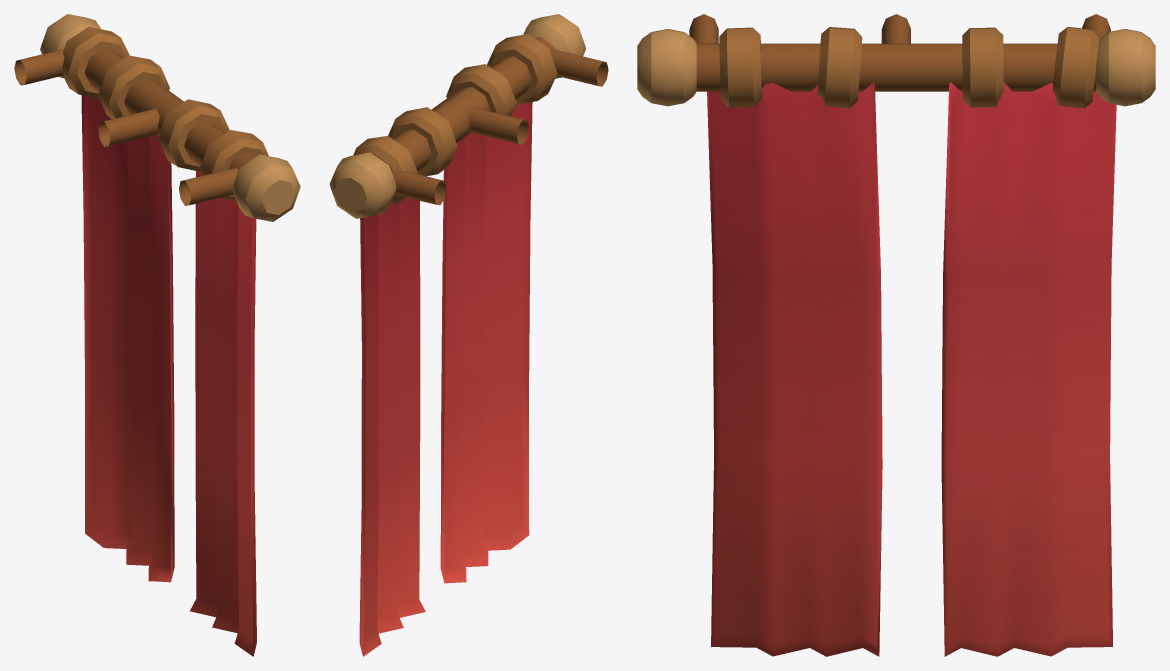
File: Curtains_Short_2_D_E.glb
The picture shows the model from 3 angles, left to right: view 1: azimuth 30°, elevation 25°; view 2: azimuth 150°, elevation 25°; view 3: azimuth 270°, elevation 25°; orthographic projection. The views are drawn at different scales.
Parts seen in each view (by area): view 1: Curtains_Short_2_D_E; view 2: Curtains_Short_2_D_E; view 3: Curtains_Short_2_D_E.
Part boxes in pixels (<box>): Curtains_Short_2_D_E: <box>14,14,300,656</box>; Curtains_Short_2_D_E: <box>329,14,608,656</box>; Curtains_Short_2_D_E: <box>637,14,1155,656</box>.
Size of the model in its own units: 0.2275 by 1.16 by 0.8807.
1 material, 1 textured.
